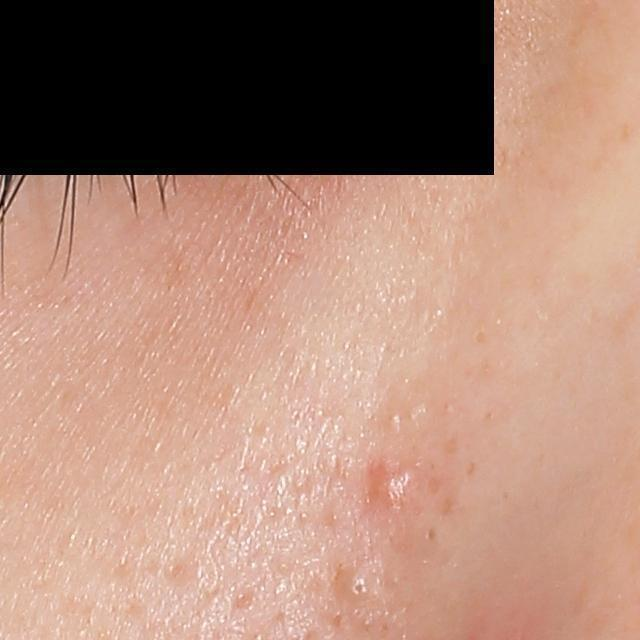comedo: (336, 565, 381, 612), (421, 524, 439, 543)
papule: (364, 457, 421, 518)
